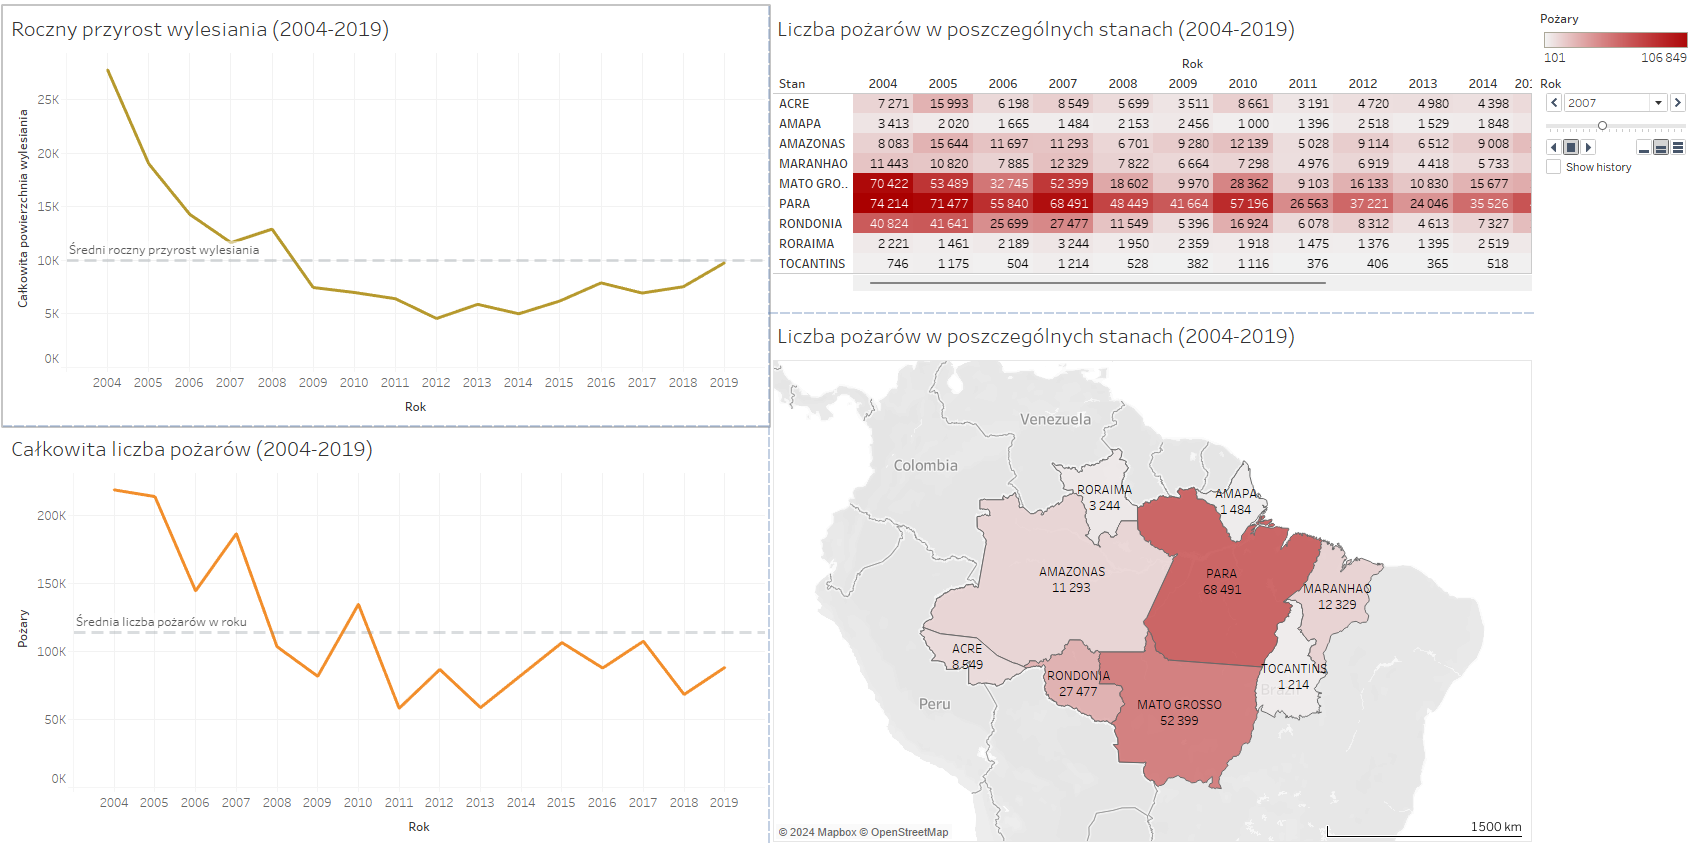

What the dashboard file says about the page in this screenshot:
{"tool":"tableau","page":{"name":"Dashboard 1","canvas":[1000,1000],"units":"permille","ordinal":0},"visuals":[{"type":"worksheet","title":"Ogólny trend wylesiania (2)","mark":"Automatic","rows":["AMZ LEGAL"],"cols":["Ano/Estados"],"box":[4.7,9.3,448.5,490.7]},{"type":"worksheet","title":"Pożary wg stanów (Tabela)","mark":"Square","rows":["state"],"cols":["year"],"box":[453.2,9.3,448.5,358.6]},{"type":"legend","title":"Pożary wg stanów","param":"[federated.10yu5iu0tep4pw1dtmyhq009dr22].[sum:firespots:qk]","box":[901.7,9.3,93.6,75.9]},{"type":"currpage","title":"Pożary wg stanów","box":[901.7,85.3,93.6,128.5]},{"type":"worksheet","title":"Pożary wg stanów","mark":"Automatic","box":[453.2,368,448.5,622.7]},{"type":"worksheet","title":"Całkowita liczba pożarów rocznie","mark":"Automatic","rows":["firespots"],"cols":["year"],"box":[4.7,500,448.5,490.7]}]}

Visuals, with their boxes on the dashboard's canvas, which has no fixed pixel size, in thousandths of its width and height (x1, y1, x2, y2). These are canvas units, not pixel positions in the 1691x848 screenshot, which may show the page scaled, cropped or inside an application window:
"Ogólny trend wylesiania (2)" worksheet: <bbox>5, 9, 453, 500</bbox>
"Pożary wg stanów (Tabela)" worksheet (Square marks): <bbox>453, 9, 902, 368</bbox>
"Pożary wg stanów" legend: <bbox>902, 9, 995, 85</bbox>
"Pożary wg stanów" currpage: <bbox>902, 85, 995, 214</bbox>
"Pożary wg stanów" worksheet: <bbox>453, 368, 902, 991</bbox>
"Całkowita liczba pożarów rocznie" worksheet: <bbox>5, 500, 453, 991</bbox>
